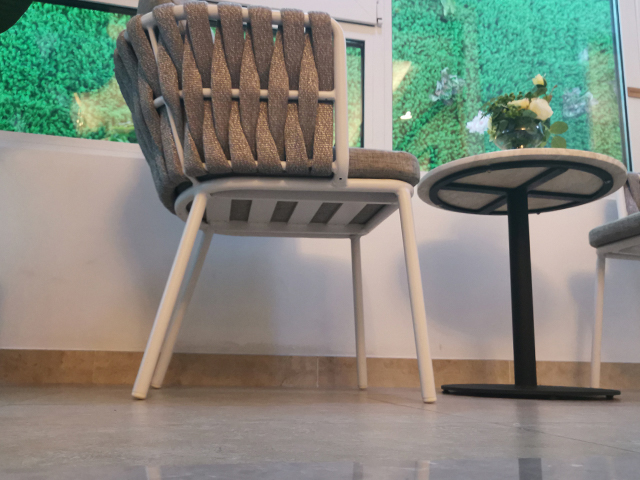stool: (111, 1, 438, 405)
table: (415, 146, 629, 403)
